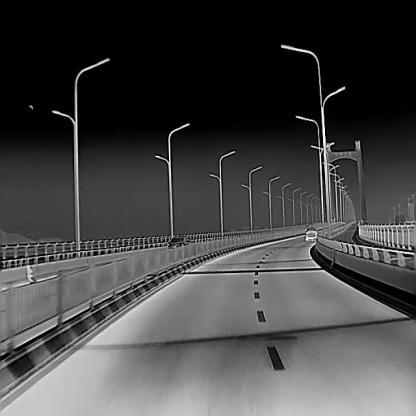car: (169, 236, 187, 248), (305, 227, 316, 239)
